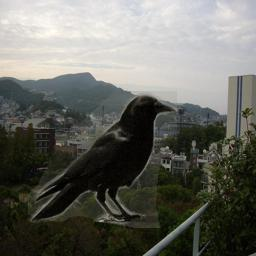Crow: (28, 91, 177, 228)
